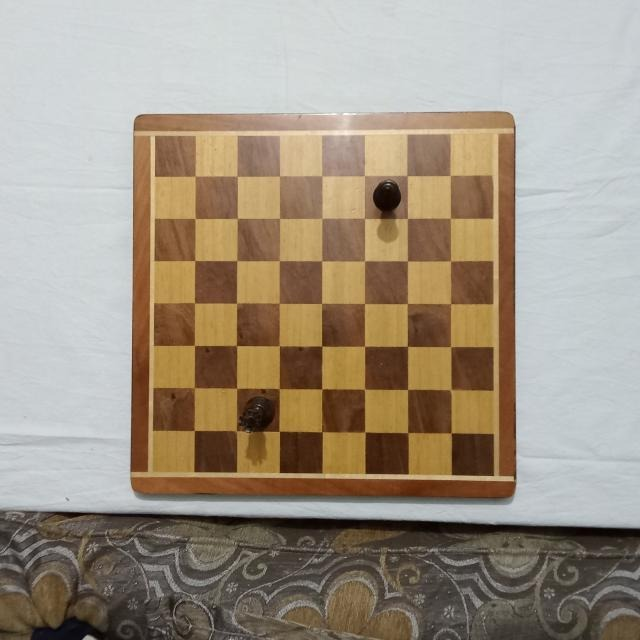black-king: (372, 179, 403, 213)
black-queen: (239, 395, 277, 433)
